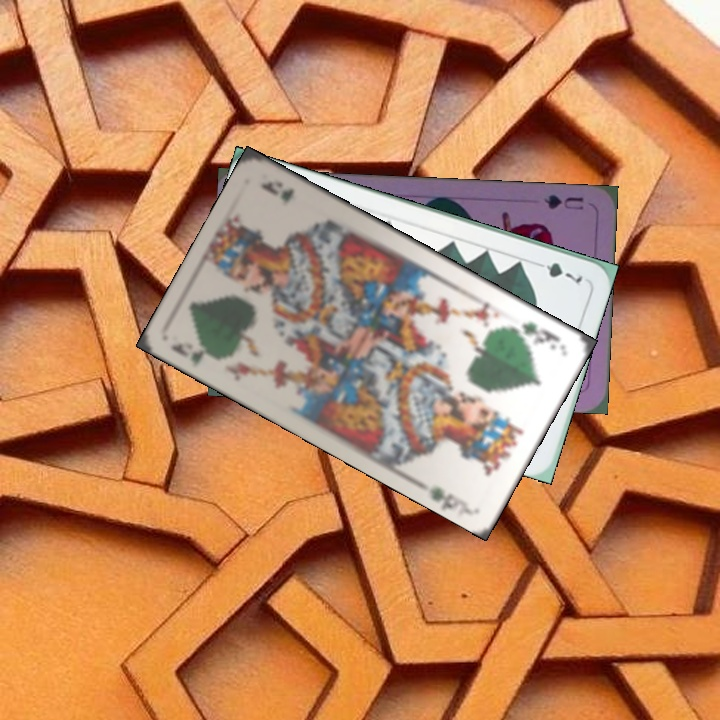G7: (529, 257, 586, 286)
GK: (506, 317, 564, 353), (166, 339, 225, 368)
GU: (540, 191, 586, 212)
